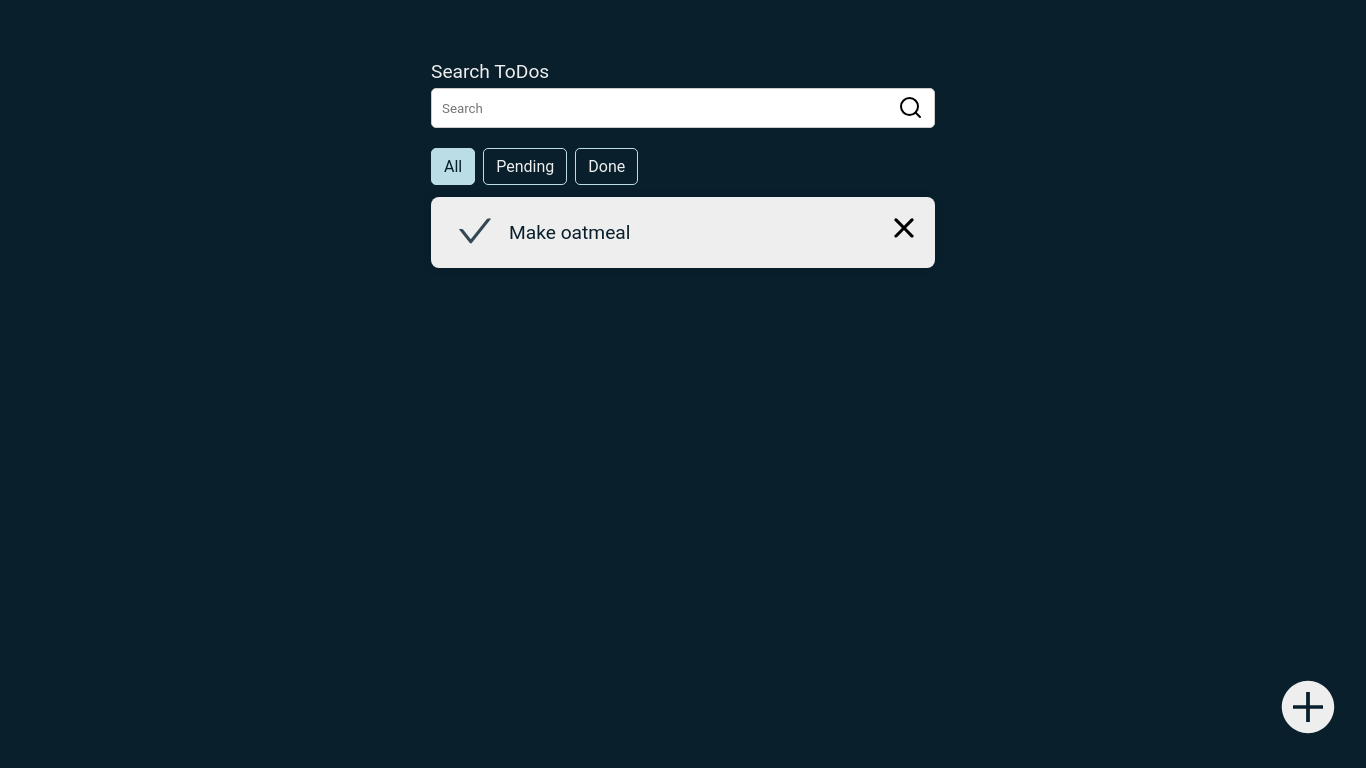
Test: App › gives icon-only controls accessible names and exposes task dialogs
The width and height of the screenshot is (1366, 768).
Expected: the field labelled "Search ToDos" is shown, [431,88,935,128]
Click the button named "add a task" at (1308, 708), box [1270,669,1346,748]
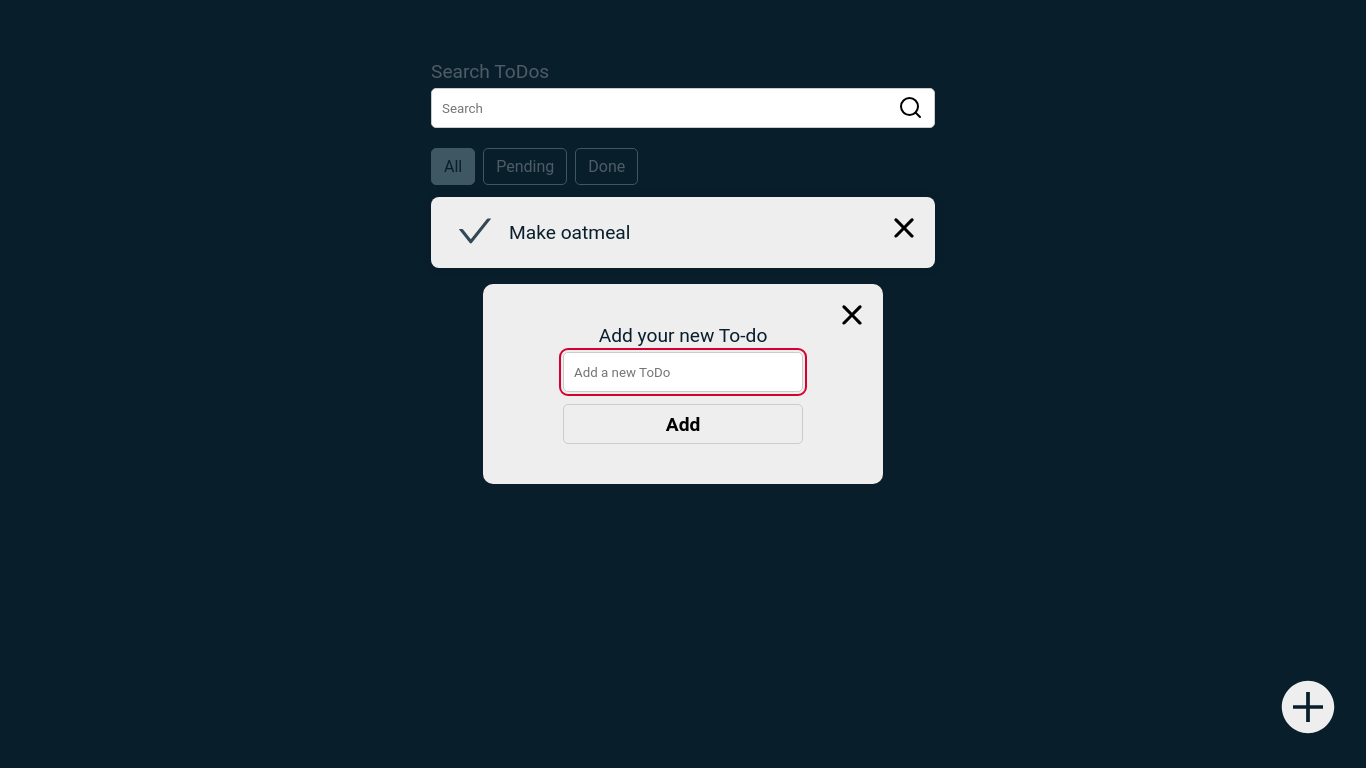
Expected: the dialog named "Add a task" is shown, [483,284,883,484]
Expected: the button named "Close add task dialog" is shown
Click the button named "Close add task dialog" at (852, 316), box [837,300,867,333]
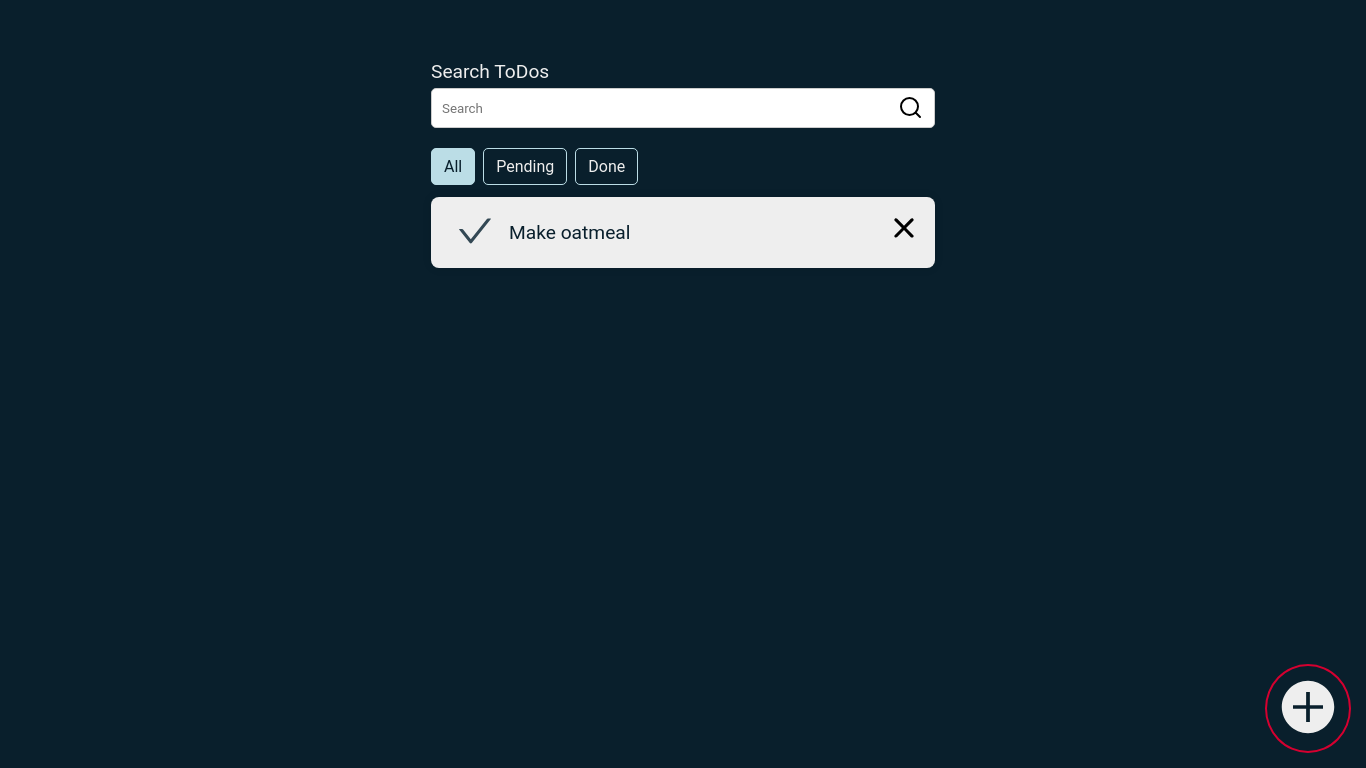
Expected: the text "Make oatmeal" is shown, [431,197,935,268]
Expected: the button named "Mark Make oatmeal as complete" is shown, [451,207,499,258]
Click the button named "Remove Make oatmeal" at (904, 230), box [889,213,919,246]
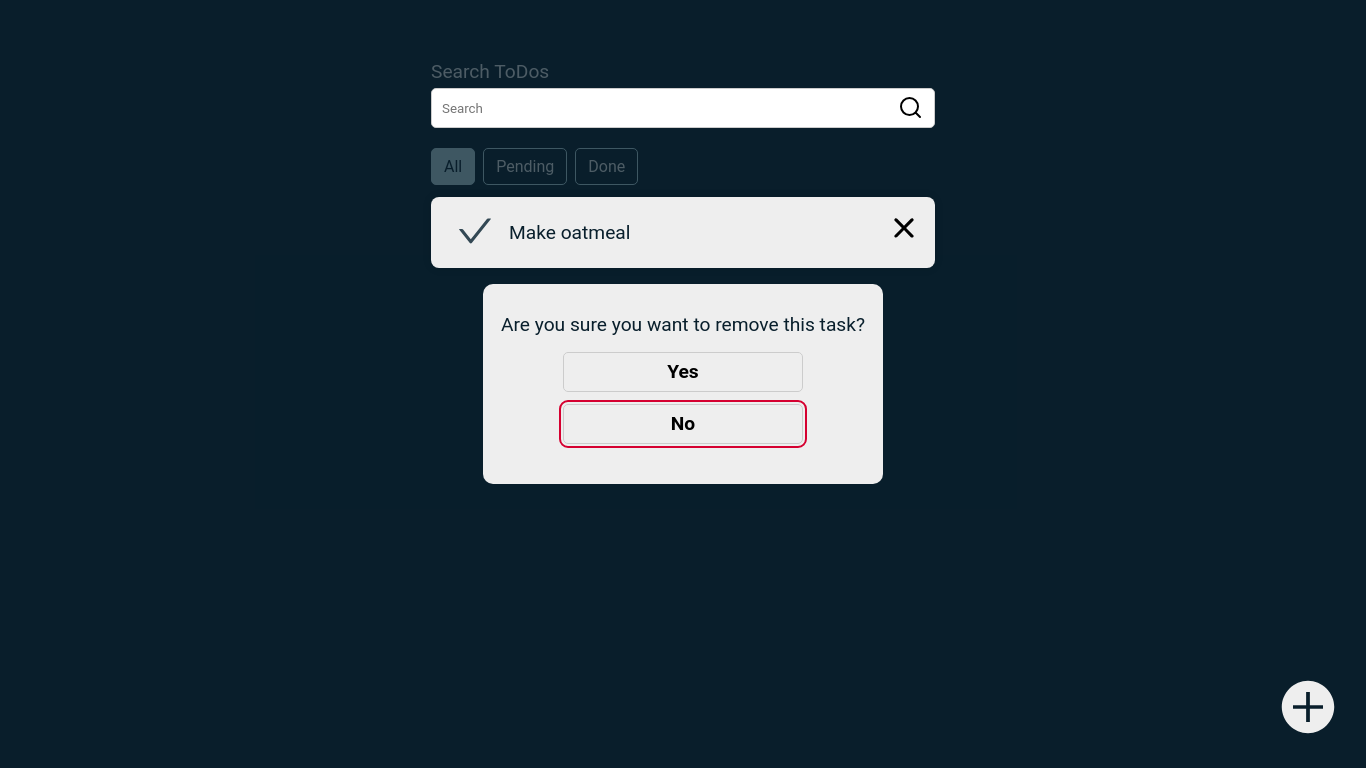
Expected: the dialog named "Remove task" is shown, [483,284,883,484]
Expected: the button "Yes" is shown, [563,352,803,392]
Expected: the button "No" is shown, [563,404,803,444]
